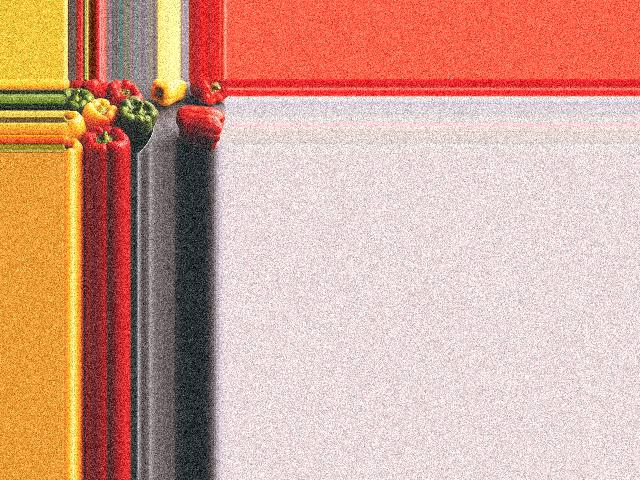bell_pepper: (189, 81, 228, 104)
